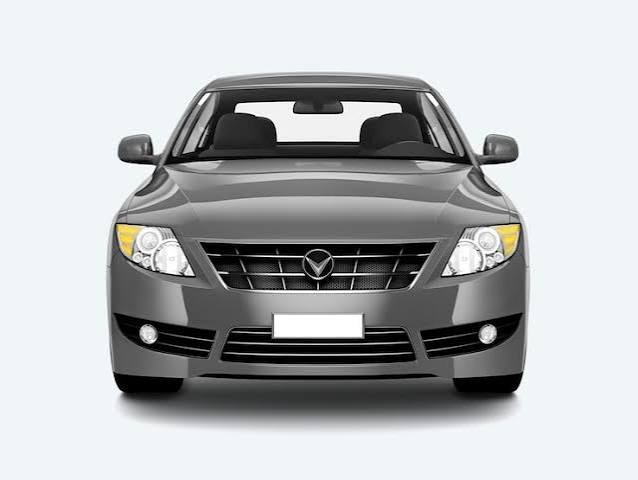car: (96, 71, 537, 394)
